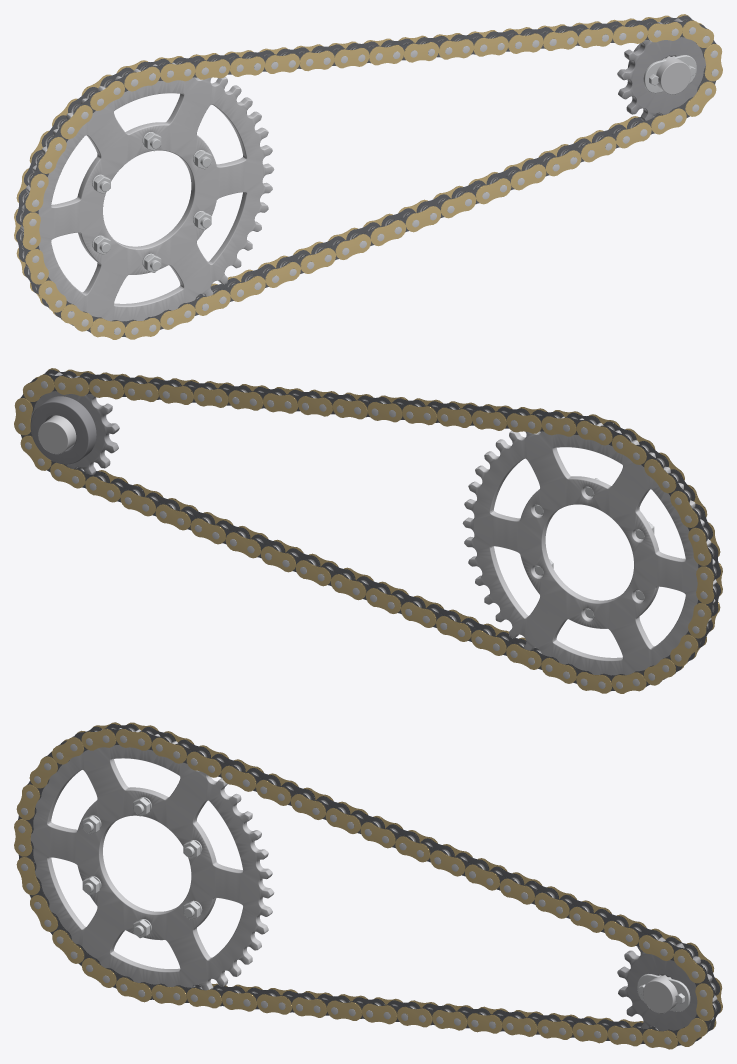
The model's file is chain_sprockets.glb.
3 views of the same model, one above another, from view 1: azimuth 30°, elevation 25°; view 2: azimuth 150°, elevation 25°; view 3: azimuth 330°, elevation 25° (orthographic).
Visible parts, largest first — view 1: chain_sprockets__rear_sprocket, chain_sprockets__chain_outer_plates, chain_sprockets__chain_inner_plates, chain_sprockets__chain_rivets, chain_sprockets__front_sprocket, chain_sprockets__rear_sprocket_nuts, chain_sprockets__chain_rollers, chain_sprockets__countershaft, chain_sprockets__retainer_plate; view 2: chain_sprockets__rear_sprocket, chain_sprockets__chain_outer_plates, chain_sprockets__chain_inner_plates, chain_sprockets__chain_rivets, chain_sprockets__front_sprocket_boss, chain_sprockets__front_sprocket, chain_sprockets__chain_rollers, chain_sprockets__countershaft, chain_sprockets__rear_sprocket_nuts; view 3: chain_sprockets__rear_sprocket, chain_sprockets__chain_outer_plates, chain_sprockets__chain_inner_plates, chain_sprockets__chain_rivets, chain_sprockets__front_sprocket, chain_sprockets__rear_sprocket_nuts, chain_sprockets__chain_rollers, chain_sprockets__countershaft, chain_sprockets__retainer_plate.
Part boxes in pixels (box(x1,y1,x2,y2)): chain_sprockets__rear_sprocket: box(20, 62, 274, 321); chain_sprockets__chain_outer_plates: box(14, 14, 722, 339); chain_sprockets__chain_inner_plates: box(16, 15, 716, 337); chain_sprockets__chain_rivets: box(29, 27, 718, 334); chain_sprockets__front_sprocket: box(617, 18, 705, 121); chain_sprockets__rear_sprocket_nuts: box(92, 132, 211, 272); chain_sprockets__chain_rollers: box(20, 19, 687, 302); chain_sprockets__countershaft: box(656, 56, 690, 94); chain_sprockets__retainer_plate: box(643, 55, 696, 93); chain_sprockets__rear_sprocket: box(462, 416, 716, 675); chain_sprockets__chain_outer_plates: box(14, 368, 722, 693); chain_sprockets__chain_inner_plates: box(20, 369, 720, 691); chain_sprockets__chain_rivets: box(18, 381, 707, 688); chain_sprockets__front_sprocket_boss: box(30, 396, 96, 464); chain_sprockets__front_sprocket: box(31, 372, 119, 475); chain_sprockets__chain_rollers: box(49, 373, 716, 656); chain_sprockets__countershaft: box(38, 415, 76, 454); chain_sprockets__rear_sprocket_nuts: box(535, 478, 654, 618); chain_sprockets__rear_sprocket: box(30, 728, 274, 990); chain_sprockets__chain_outer_plates: box(14, 722, 722, 1049); chain_sprockets__chain_inner_plates: box(18, 724, 720, 1046); chain_sprockets__chain_rivets: box(18, 735, 707, 1044); chain_sprockets__front_sprocket: box(617, 937, 717, 1031); chain_sprockets__rear_sprocket_nuts: box(82, 797, 202, 938); chain_sprockets__chain_rollers: box(94, 727, 717, 1030); chain_sprockets__countershaft: box(643, 975, 677, 1013); chain_sprockets__retainer_plate: box(637, 974, 690, 1011).
Size of the model in its own units: 61.87 by 22.74 by 4.06.
